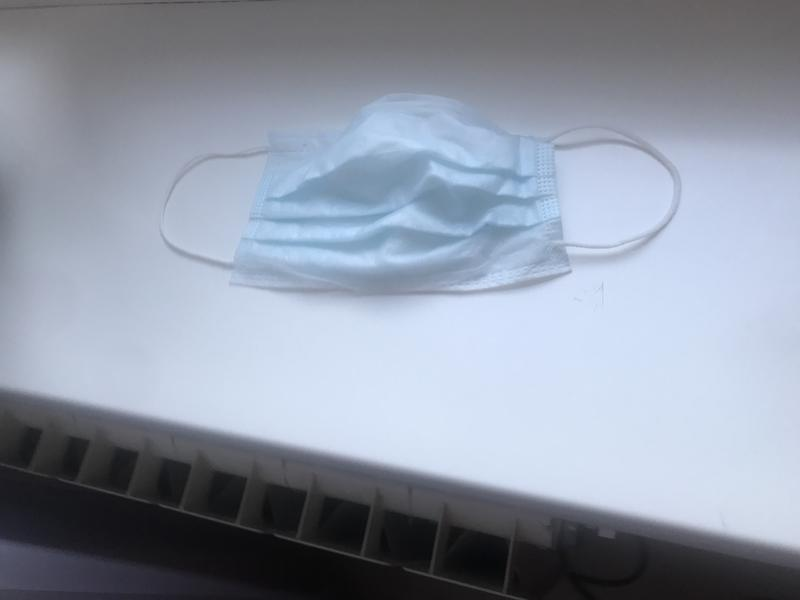medical_mask: (160, 122, 680, 282)
